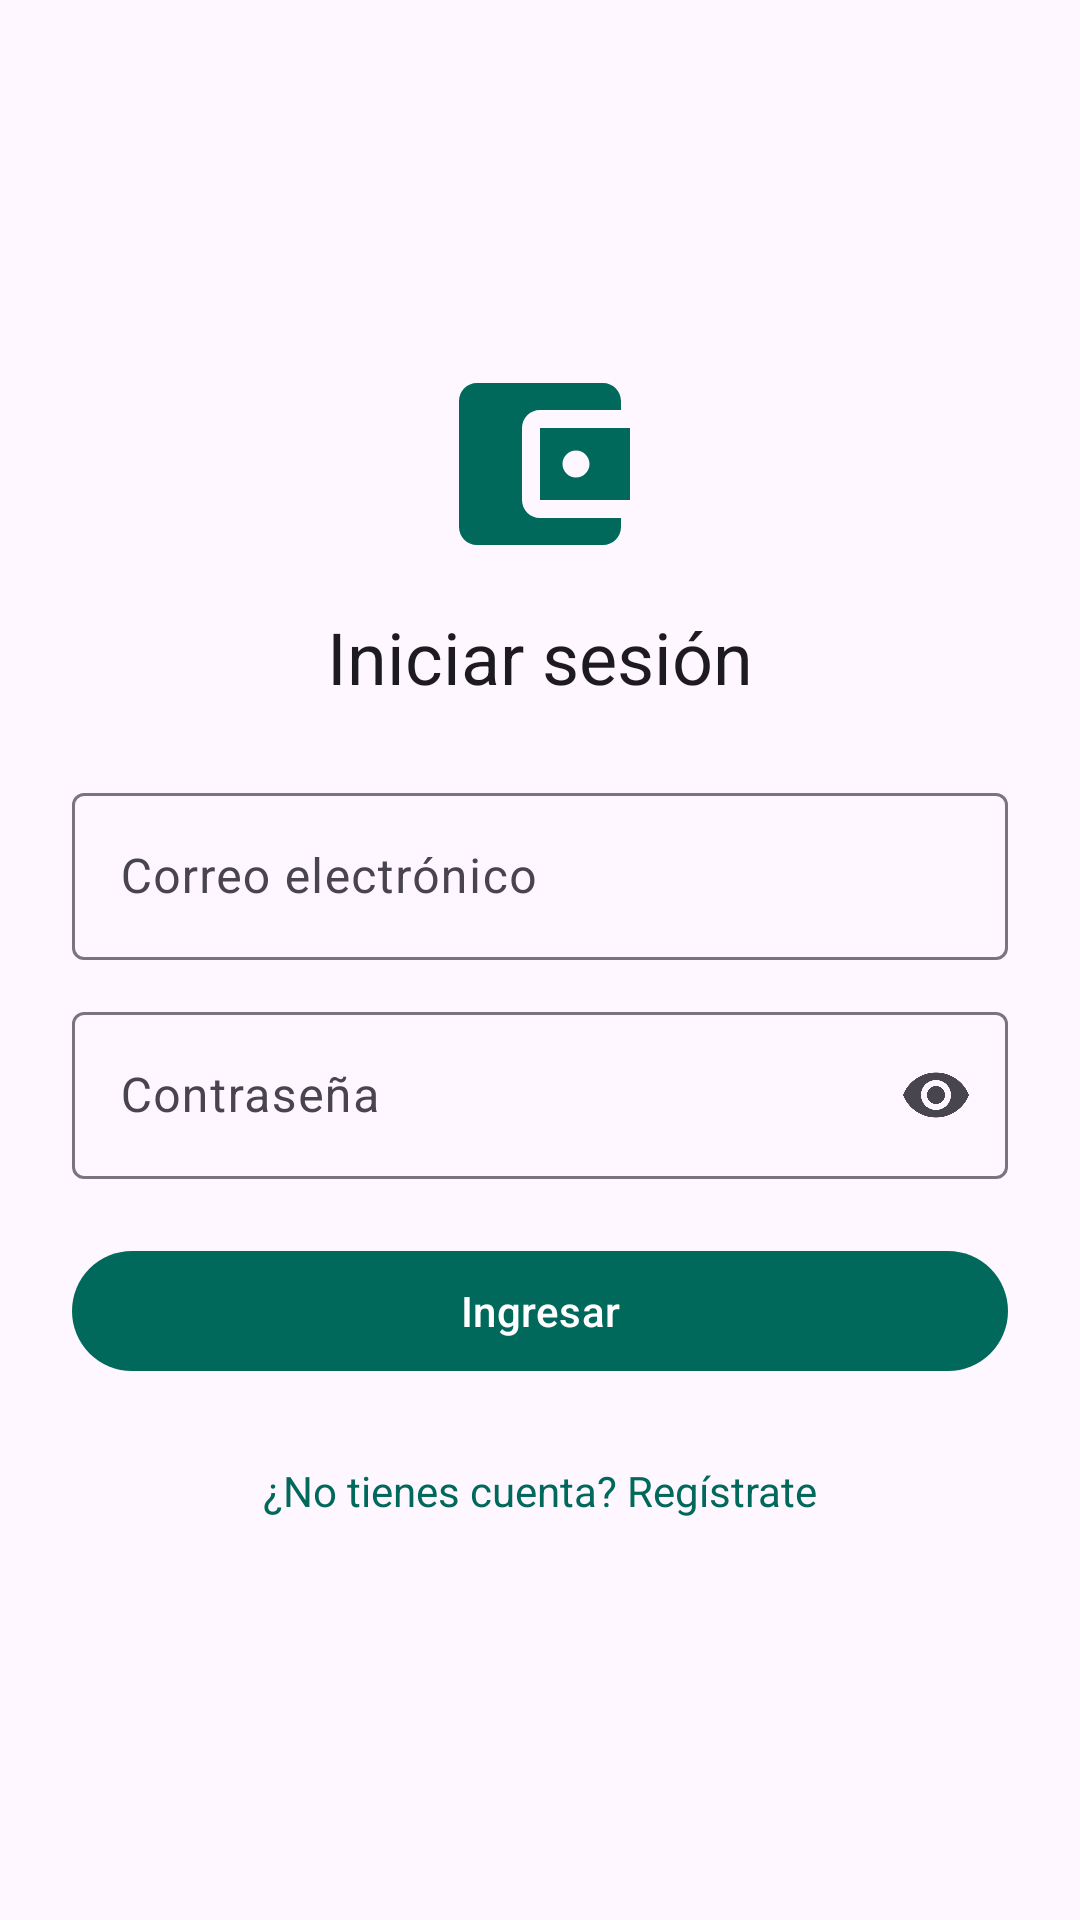

Icon bounding boxes for this 1080×1920 phone screenshot, format (x1, y1, x2, y2):
wallet: (459, 383, 630, 545)
